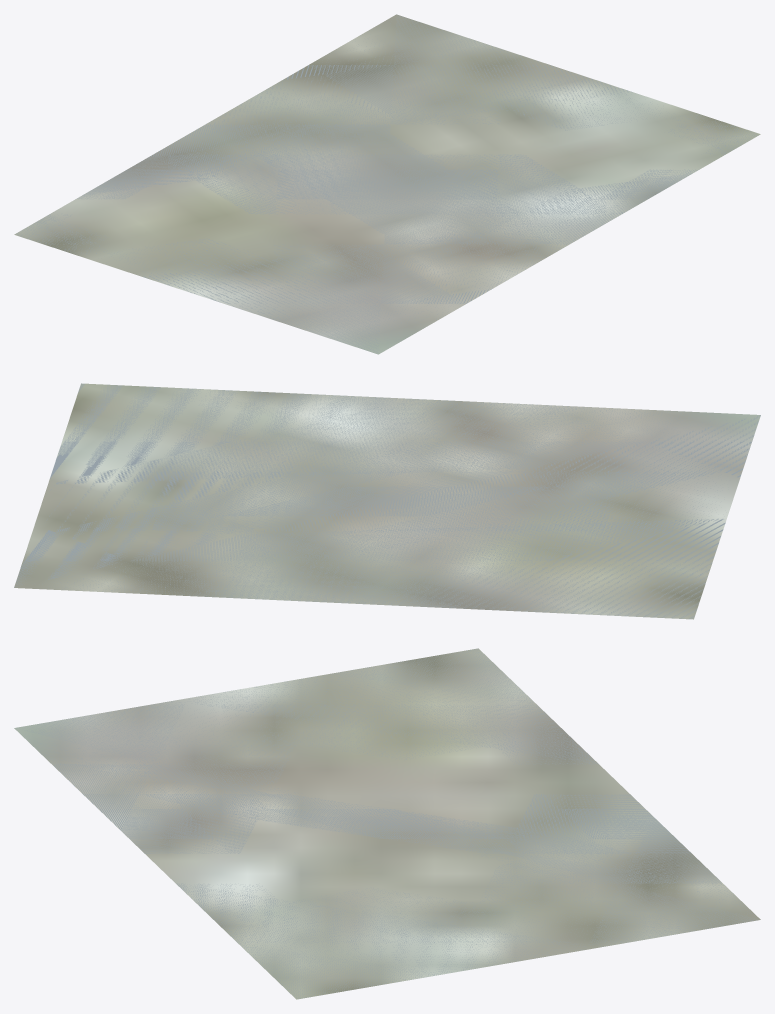
File: 西庸城堡386.dae
The picture shows the model from 3 angles, top to bottom: view 1: azimuth 30°, elevation 25°; view 2: azimuth 150°, elevation 25°; view 3: azimuth 270°, elevation 25°; orthographic projection. The views are drawn at different scales.
Visible parts, largest first — view 1: SketchUp; view 2: SketchUp; view 3: SketchUp.
Part boxes in pixels (x1,y1,x2,y2): SketchUp: [14, 14, 760, 354]; SketchUp: [14, 383, 760, 619]; SketchUp: [14, 648, 760, 999].
Size of the model in its own units: 48.97 by 44.01 by 0.
